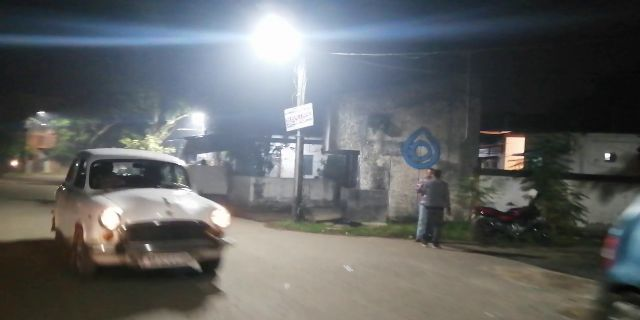Car: (53, 148, 234, 291)
